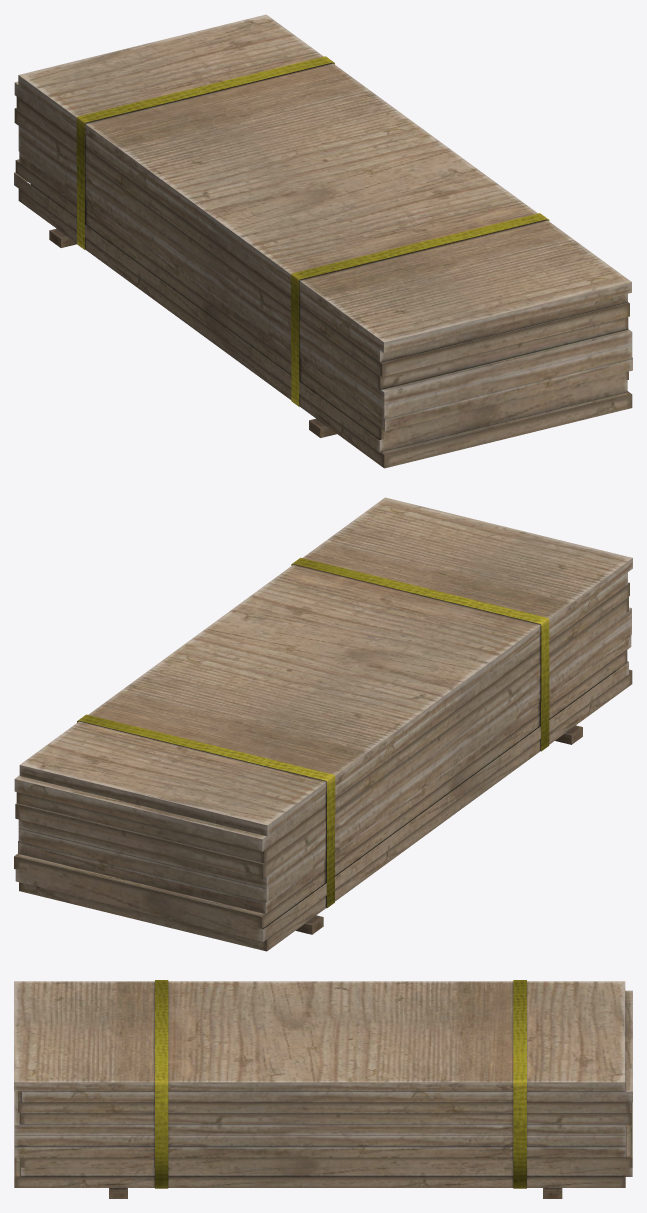
Rendered from wooden_planks.glb.
The picture shows the model from 3 angles, top to bottom: view 1: azimuth 30°, elevation 25°; view 2: azimuth 150°, elevation 25°; view 3: azimuth 270°, elevation 25°; orthographic projection. The views are drawn at different scales.
Parts seen in each view (by area): view 1: Cube.002_0; view 2: Cube.002_0; view 3: Cube.002_0.
Part boxes in pixels (x1,y1,x2,y2): Cube.002_0: (14, 14, 632, 468); Cube.002_0: (14, 497, 632, 951); Cube.002_0: (14, 980, 632, 1198).
Bounding box in the file's own units: 0.8679 × 0.4324 × 2.12.
1 material, 1 textured.
